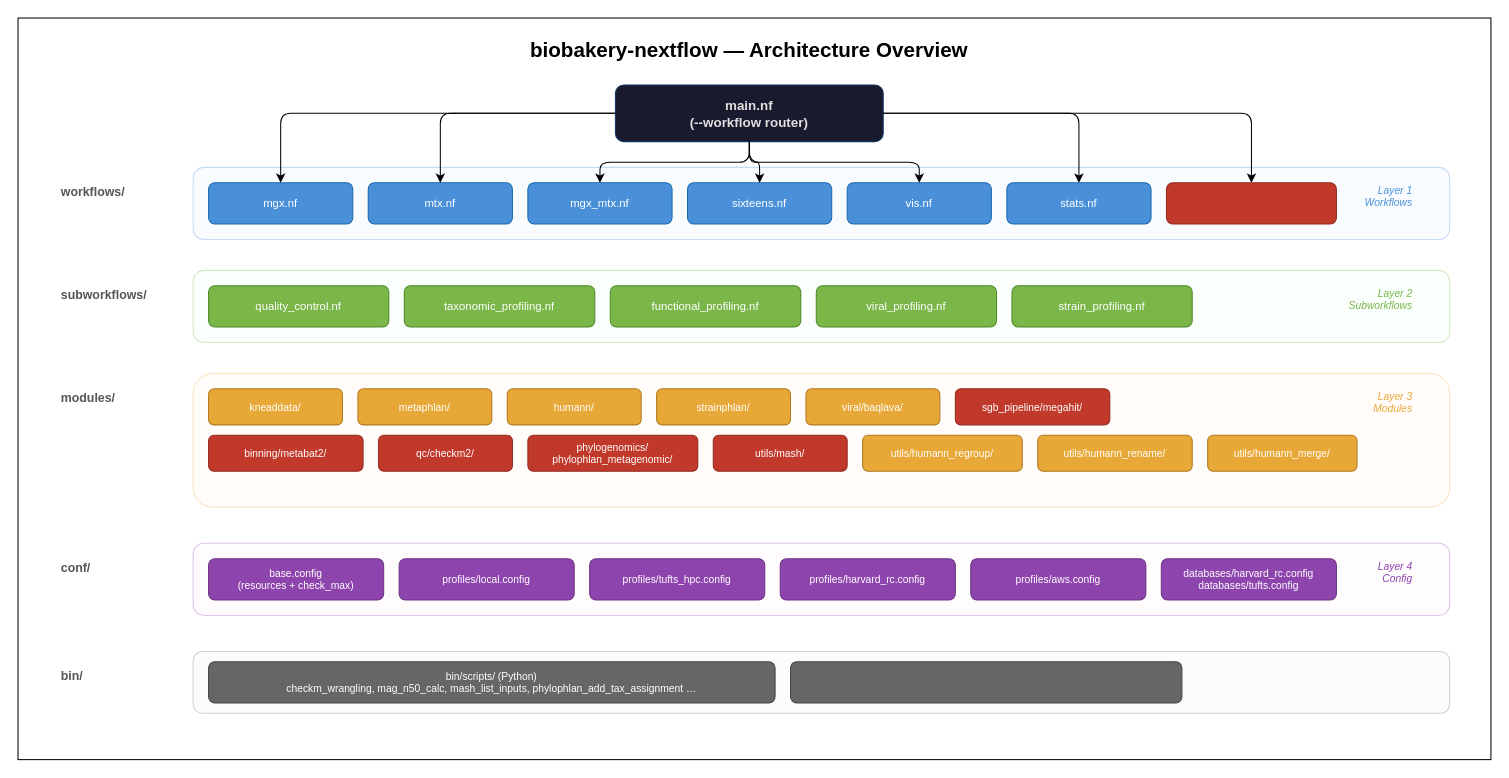
This 1509x778 diagram has some shape labels left out. Each missing label, with the centre of its shape:
"bin/Rscripts/ mash_clusters.R, merge_tax_and_abundance.R" belongs at (x=985, y=682).
"sgb_pipeline.nf" belongs at (x=1250, y=203).
